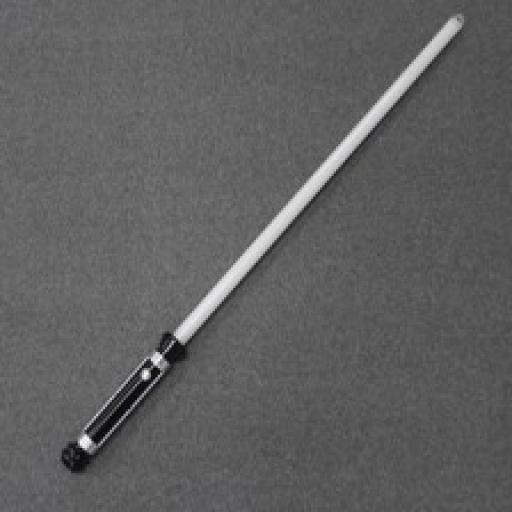lightsaber: (64, 16, 461, 469)
